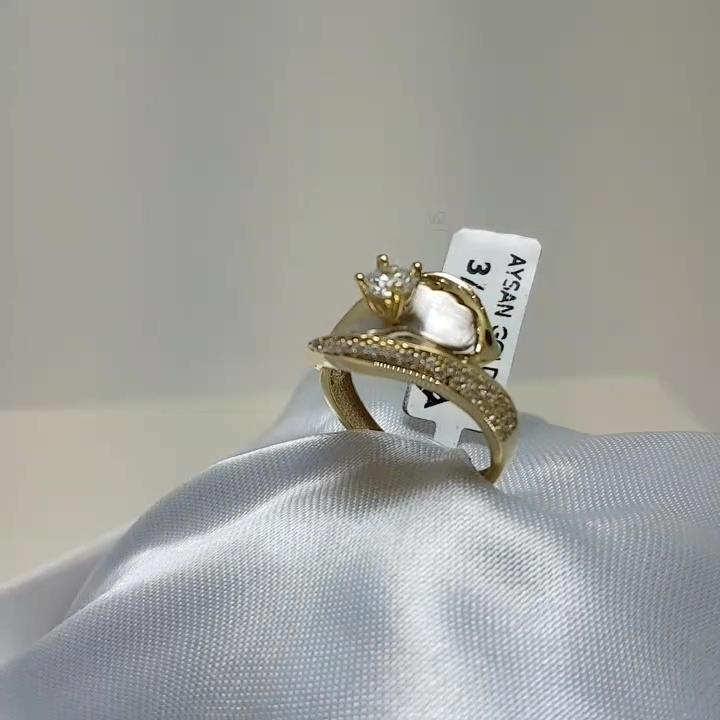Ring 6: (293, 242, 529, 484)
